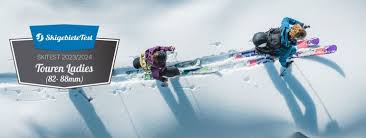skis: (232, 38, 340, 68), (143, 57, 207, 89)
